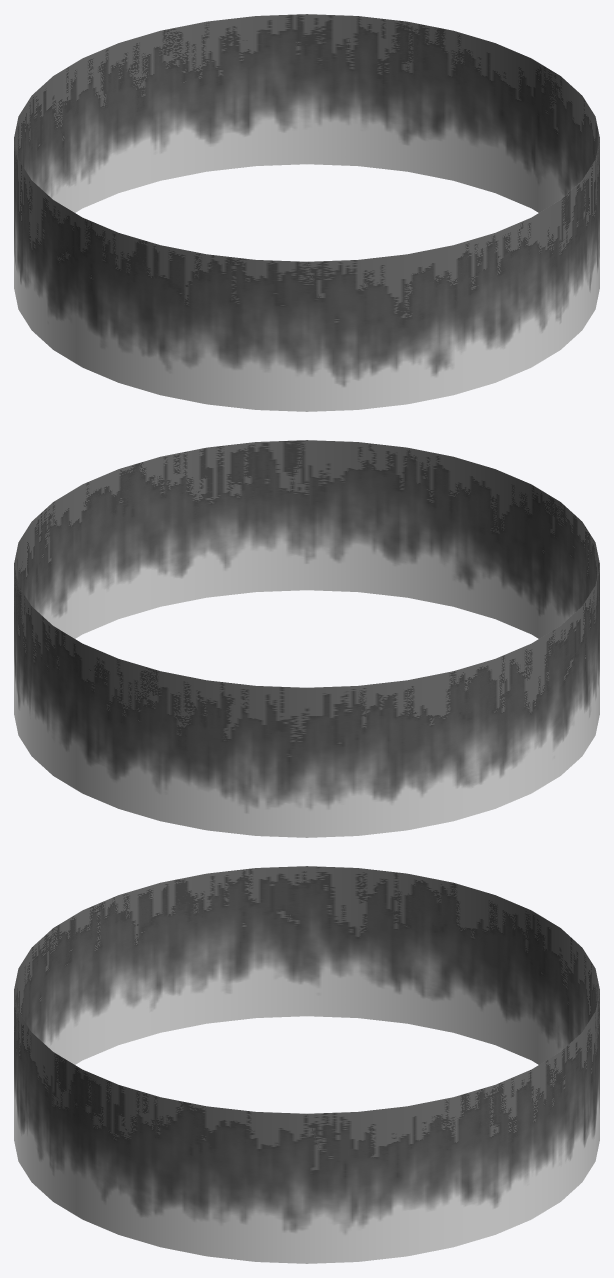
Rendered from ShockWave.fbx.
3 views of the same model, one above another, from view 1: azimuth 30°, elevation 25°; view 2: azimuth 150°, elevation 25°; view 3: azimuth 270°, elevation 25° (orthographic).
Visible parts, largest first — view 1: WaveEffect_geo; view 2: WaveEffect_geo; view 3: WaveEffect_geo.
Part boxes in pixels (x1,y1,x2,y2): WaveEffect_geo: (14, 14, 599, 411); WaveEffect_geo: (14, 440, 599, 837); WaveEffect_geo: (14, 866, 599, 1263).
Size of the model in its own units: 653 by 185 by 653.
1 material, 1 textured.
